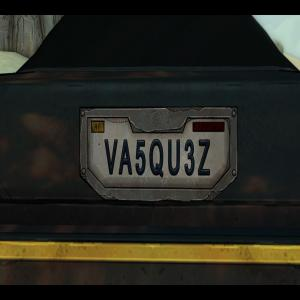Vehicle-registration-plate: (82, 106, 238, 202)
